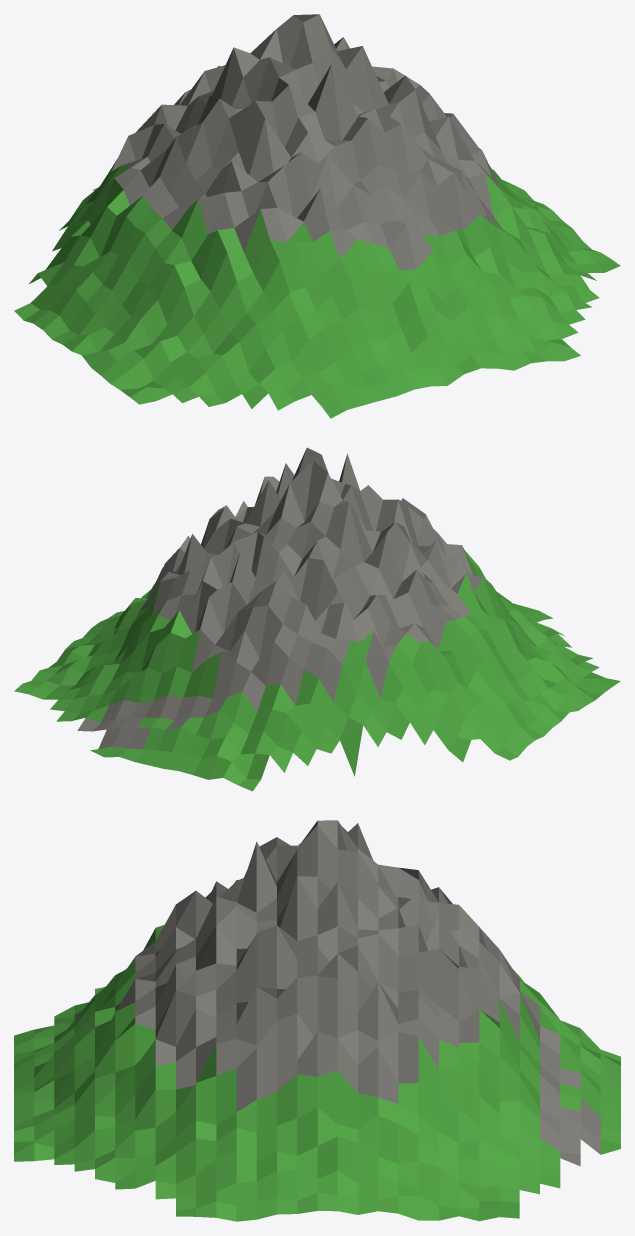
Rendered from Montagne_2.fbx.
3 views of the same model, one above another, from view 1: azimuth 30°, elevation 25°; view 2: azimuth 150°, elevation 25°; view 3: azimuth 270°, elevation 25° (orthographic). The views are drawn at different scales.
Parts seen in each view (by area): view 1: Plane; view 2: Plane; view 3: Plane.
Boxes of the visible parts, bbox=[...] form: Plane: bbox=[14, 14, 620, 418]; Plane: bbox=[14, 447, 620, 791]; Plane: bbox=[14, 820, 620, 1221].
Size of the model in its own units: 1440 by 731 by 1440.
